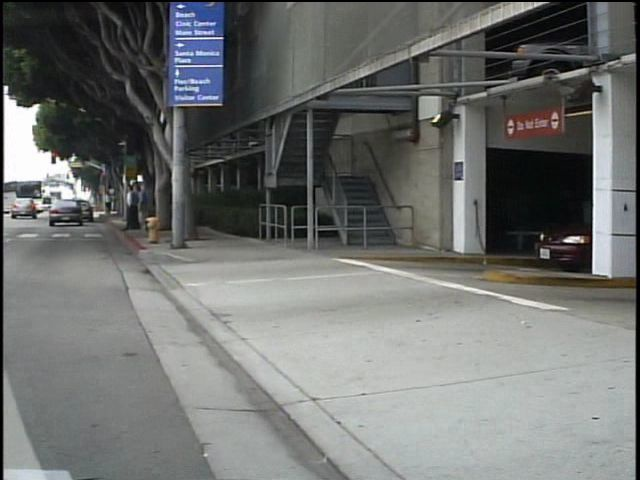person: (107, 186, 123, 220)
